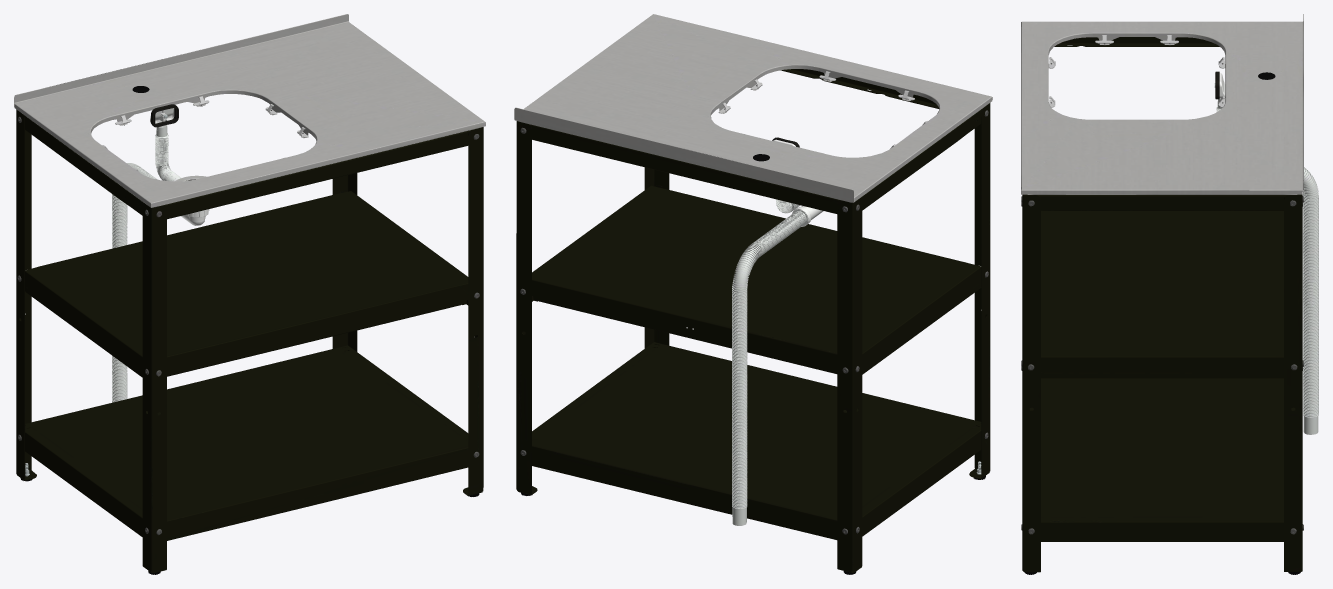
Rendered from grillskar_modu_pod_zlew_60523275.glb.
3 views of the same model, side by side, from view 1: azimuth 30°, elevation 25°; view 2: azimuth 150°, elevation 25°; view 3: azimuth 270°, elevation 25° (orthographic). The views are drawn at different scales.
Parts seen in each view (by area): view 1: grillskar_modu_pod_zlew_60523275; view 2: grillskar_modu_pod_zlew_60523275; view 3: grillskar_modu_pod_zlew_60523275.
Part boxes in pixels (box(x1,y1,x2,y2)): grillskar_modu_pod_zlew_60523275: box(14, 14, 485, 574); grillskar_modu_pod_zlew_60523275: box(514, 14, 992, 574); grillskar_modu_pod_zlew_60523275: box(1021, 14, 1318, 574).
Size of the model in its own units: 0.8601 by 0.9405 by 0.6419.
Materials: 1 (1 with a texture image).
